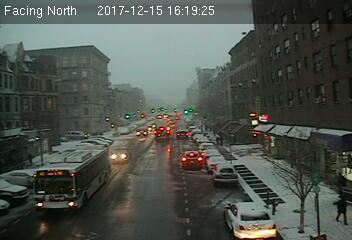bus: (32, 146, 110, 210)
car: (223, 200, 278, 239), (211, 162, 238, 185), (180, 151, 204, 169), (109, 149, 131, 162), (153, 126, 170, 139), (176, 129, 190, 139)
pedestrian: (333, 193, 351, 229)
